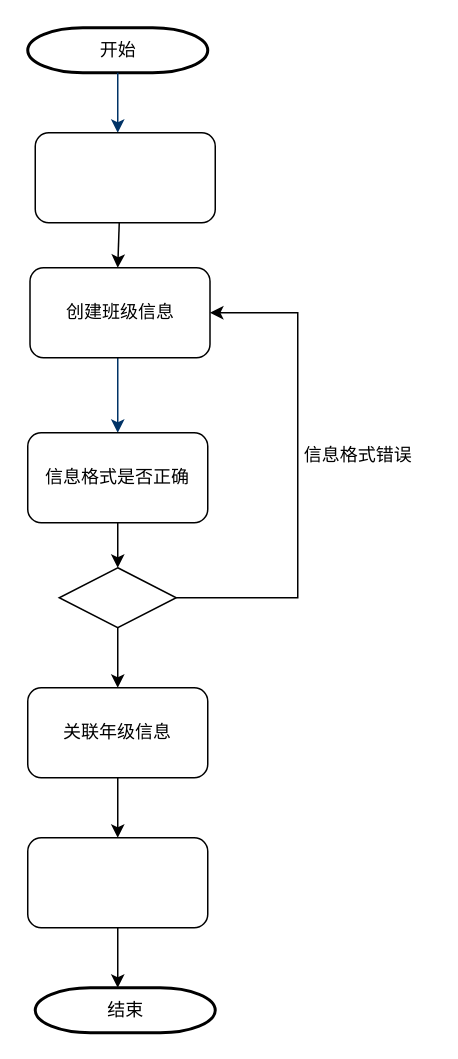
The diagram is 458 pixels wide and 1059 high, and some of its shapes have lost their labels. Here are the shapes that lost their labels. From the top down, the box of each, then its label:
(34, 131, 215, 223): 登录
(26, 836, 208, 928): 创建成功
